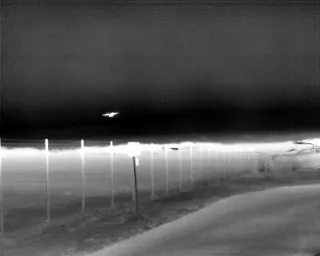AIRPLANE: (101, 109, 120, 120)
